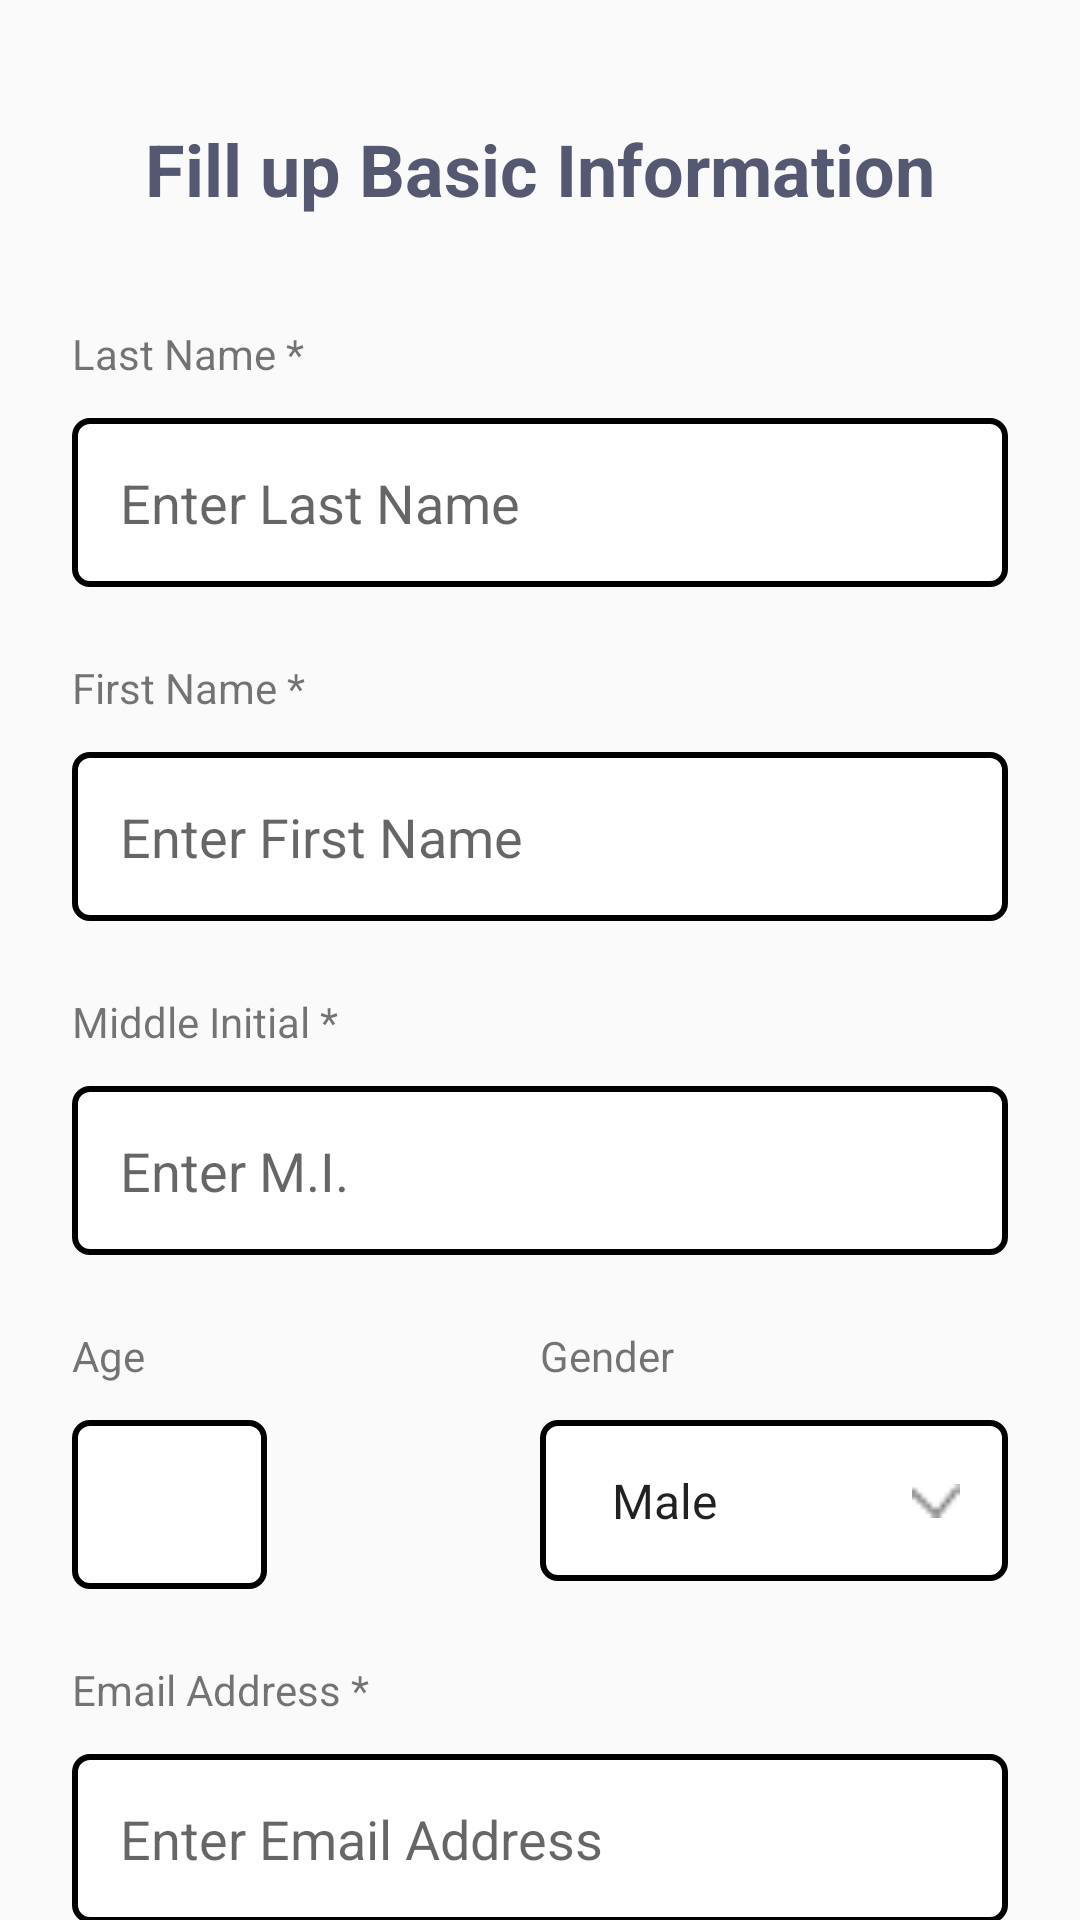

Icon click points for this 1080x1920 phone screenshot, format (x,y):
dropdown: (936,1501)
